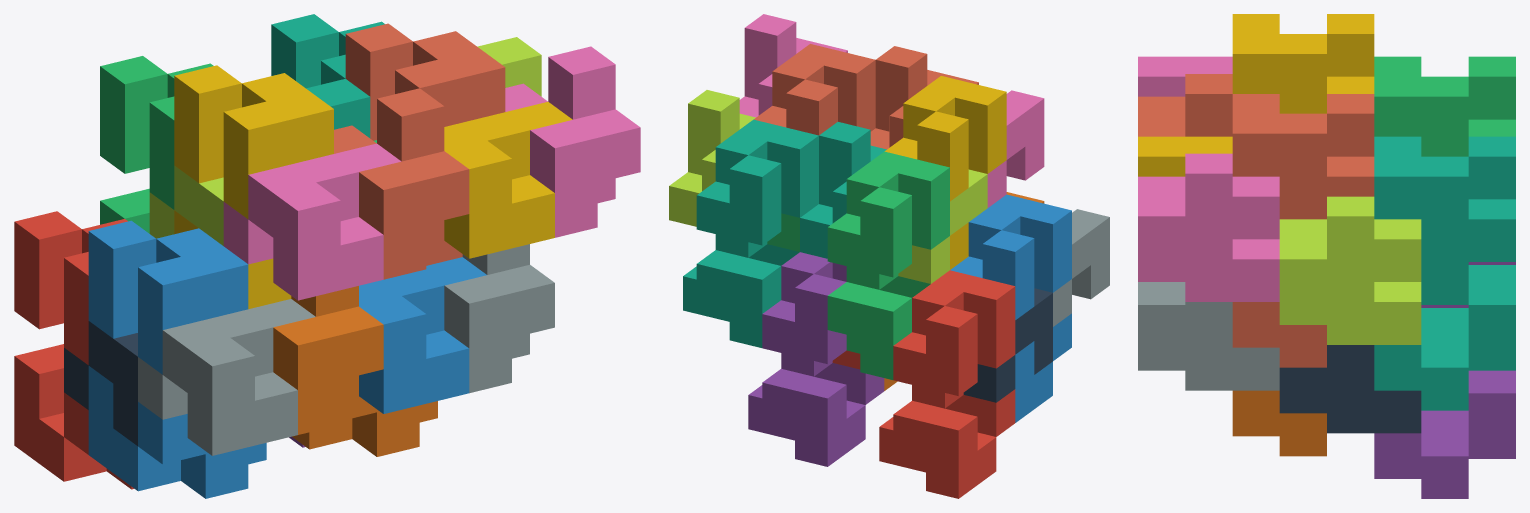
The model's file is tiling.obj.
3 renders of one model, left to right at view 1: azimuth 30°, elevation 25°; view 2: azimuth 150°, elevation 25°; view 3: azimuth 270°, elevation 25°, orthographic. The views are drawn at different scales.
Parts seen in each view (by area): view 1: copy_2_domain_2, copy_2_domain_4, copy_4_domain_2, copy_4_domain_4, copy_3_domain_4, copy_3_domain_8, copy_2_domain_8, copy_2_domain_6, copy_4_domain_8, copy_3_domain_2, copy_3_domain_6, copy_1_domain_2 (+11 smaller); view 2: copy_4_domain_7, copy_4_domain_1, copy_4_domain_3, copy_1_domain_1, copy_1_domain_5, copy_4_domain_2, copy_4_domain_4, copy_4_domain_8, copy_4_domain_5, copy_1_domain_7, copy_1_domain_3, copy_3_domain_7 (+10 smaller); view 3: copy_3_domain_7, copy_3_domain_8, copy_4_domain_7, copy_4_domain_8, copy_1_domain_7, copy_4_domain_3, copy_4_domain_4, copy_1_domain_5, copy_3_domain_6, copy_3_domain_5, copy_3_domain_4, copy_1_domain_6 (+3 smaller).
Boxes of the visible parts, x1=… form: copy_2_domain_2: x1=138, y1=299, x2=315, y2=455; copy_2_domain_4: x1=223, y1=143, x2=401, y2=300; copy_4_domain_2: x1=88, y1=220, x2=248, y2=374; copy_4_domain_4: x1=174, y1=65, x2=333, y2=218; copy_3_domain_4: x1=334, y1=88, x2=469, y2=279; copy_3_domain_8: x1=505, y1=46, x2=640, y2=237; copy_2_domain_8: x1=444, y1=102, x2=572, y2=258; copy_2_domain_6: x1=359, y1=257, x2=486, y2=413; copy_4_domain_8: x1=345, y1=23, x2=505, y2=140; copy_3_domain_2: x1=273, y1=286, x2=383, y2=434; copy_3_domain_6: x1=444, y1=244, x2=554, y2=393; copy_1_domain_2: x1=88, y1=366, x2=266, y2=498; copy_4_domain_7: x1=696, y1=119, x2=818, y2=257; copy_4_domain_1: x1=893, y1=270, x2=1015, y2=408; copy_4_domain_3: x1=827, y1=151, x2=949, y2=289; copy_1_domain_1: x1=879, y1=389, x2=1015, y2=498; copy_1_domain_5: x1=748, y1=363, x2=884, y2=466; copy_4_domain_2: x1=950, y1=194, x2=1071, y2=319; copy_4_domain_4: x1=884, y1=76, x2=1006, y2=201; copy_4_domain_8: x1=754, y1=44, x2=875, y2=135; copy_4_domain_5: x1=762, y1=252, x2=846, y2=376; copy_1_domain_7: x1=683, y1=244, x2=799, y2=347; copy_1_domain_3: x1=827, y1=276, x2=930, y2=379; copy_3_domain_7: x1=669, y1=90, x2=755, y2=226; copy_3_domain_7: x1=1279, y1=196, x2=1421, y2=344; copy_3_domain_8: x1=1138, y1=153, x2=1279, y2=301; copy_4_domain_7: x1=1374, y1=136, x2=1515, y2=304; copy_4_domain_8: x1=1232, y1=94, x2=1374, y2=219; copy_1_domain_7: x1=1374, y1=265, x2=1515, y2=410; copy_4_domain_3: x1=1374, y1=56, x2=1515, y2=156; copy_4_domain_4: x1=1232, y1=14, x2=1374, y2=113; copy_1_domain_5: x1=1374, y1=370, x2=1515, y2=498; copy_3_domain_6: x1=1138, y1=282, x2=1279, y2=390; copy_3_domain_5: x1=1279, y1=345, x2=1421, y2=433; copy_3_domain_4: x1=1138, y1=74, x2=1232, y2=136; copy_1_domain_6: x1=1232, y1=390, x2=1326, y2=456.
Size of the model in its own units: 10 by 9 by 8.
